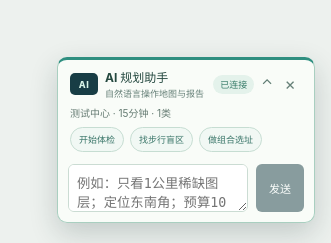
Test: 地图上的对话入口 › 直接输入可发送，中文输入法确认与Shift Enter均不会误发
In the text box with placeholder "例如：只看1公里稀缺图层；定位东南角；预算10万元规划药店": (158, 188) [68,164,248,212], type "  只看菜市场  "
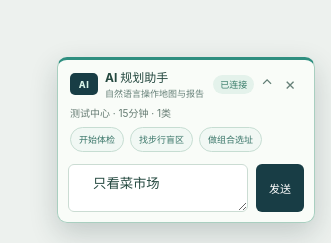
Press Enter in the text box named "和生活圈助手对话", box [68,164,248,212]
Press Enter in the text box named "和生活圈助手对话", box [68,164,248,212]
Press Enter in the text box named "和生活圈助手对话", box [68,164,248,212]
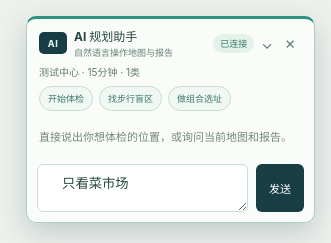
expect the button "AI AI 规划助手 自然语言操作地图与报告 已连接 ⌄" is expanded: met, box [39,27,273,59]
